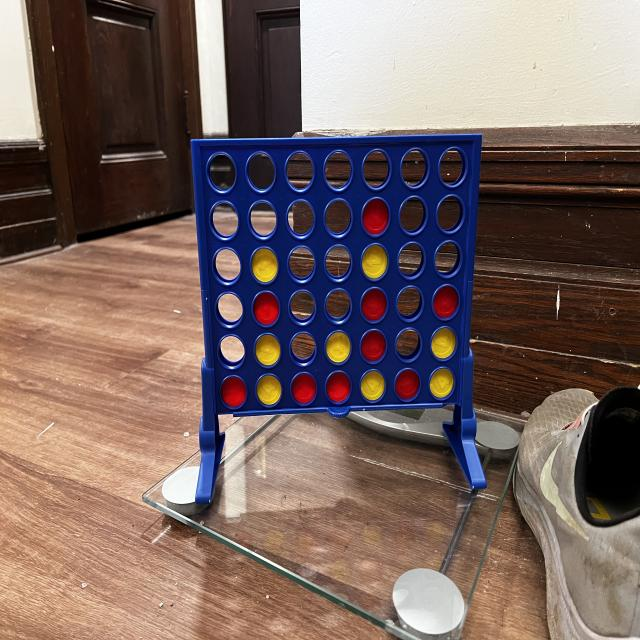Board: (192, 136, 477, 410)
No Piece: (282, 144, 318, 194), (359, 144, 395, 191), (396, 143, 432, 190), (244, 148, 278, 196), (321, 145, 355, 193), (204, 150, 241, 193), (397, 191, 432, 236), (438, 142, 470, 188), (208, 198, 243, 240), (283, 198, 319, 238), (322, 241, 354, 283), (394, 282, 426, 324), (434, 191, 465, 234), (211, 246, 243, 287), (214, 287, 246, 328), (285, 242, 317, 282), (287, 329, 318, 370), (247, 196, 277, 238), (396, 237, 426, 279), (215, 331, 248, 369), (285, 284, 318, 322), (322, 196, 353, 236), (432, 237, 464, 275), (323, 285, 354, 322), (395, 324, 422, 362)
Red Piece: (358, 194, 395, 241), (357, 282, 393, 328), (251, 286, 284, 330), (428, 278, 461, 322), (288, 370, 322, 412), (358, 325, 392, 367), (322, 366, 356, 407), (218, 375, 251, 412), (392, 363, 422, 402)
Yellow Piece: (426, 320, 461, 363), (358, 239, 393, 281), (250, 369, 287, 408), (249, 243, 282, 286), (250, 329, 284, 369), (322, 328, 357, 365), (426, 364, 459, 403)
